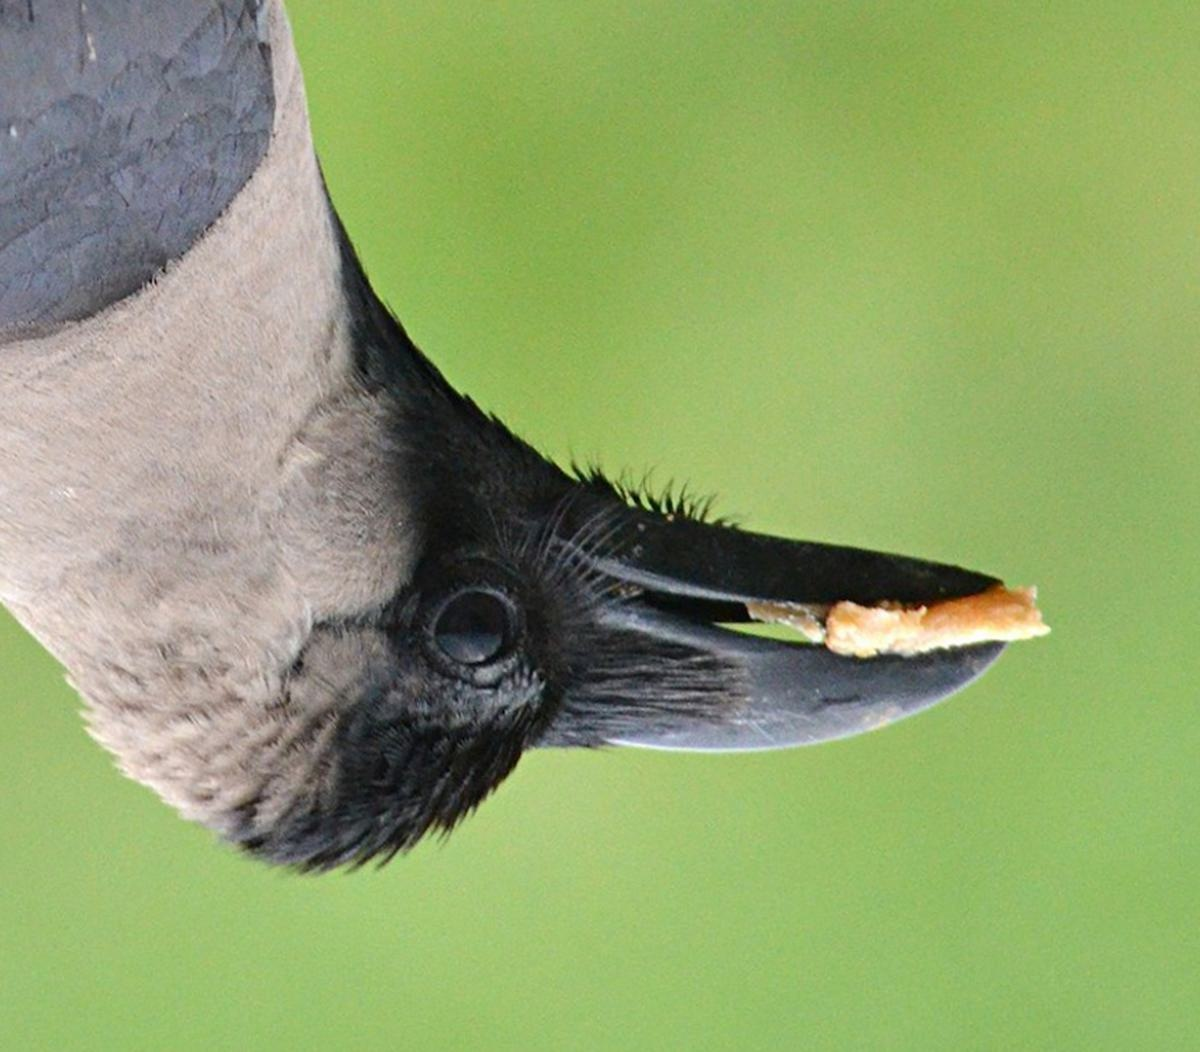crow: (1, 1, 1038, 901)
